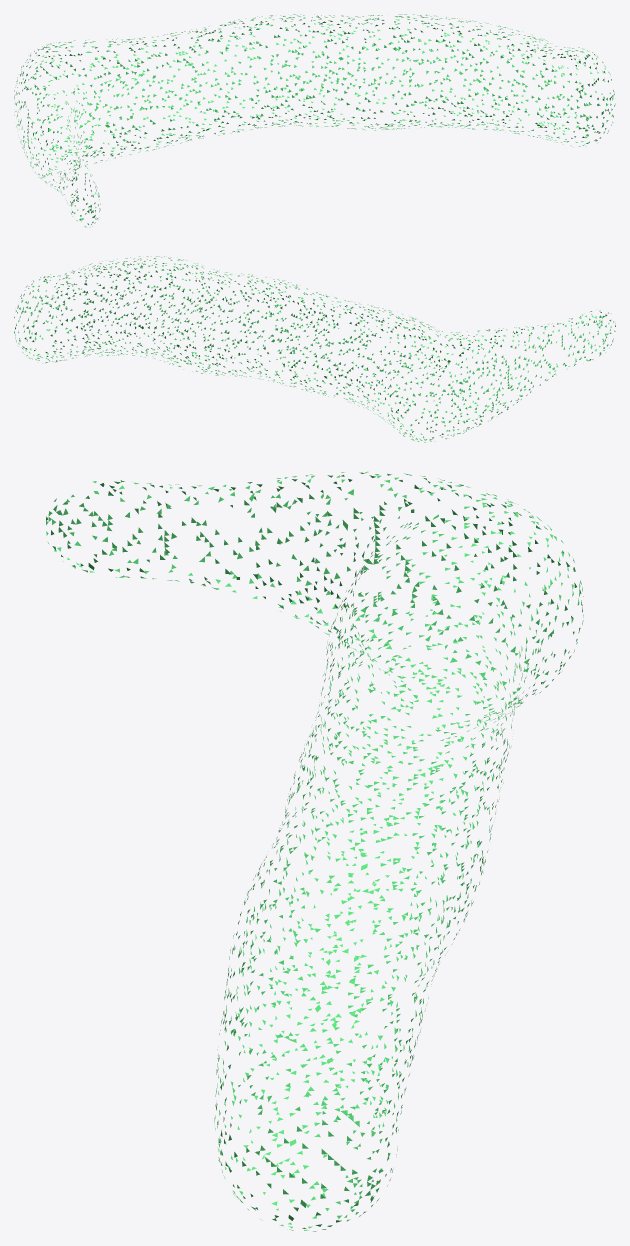
File: morph_020.glb
3 renders of one model, top to bottom at view 1: azimuth 30°, elevation 25°; view 2: azimuth 150°, elevation 25°; view 3: azimuth 270°, elevation 25°, orthographic. The views are drawn at different scales.
Size of the model in its own units: 141 by 40.31 by 62.13.
